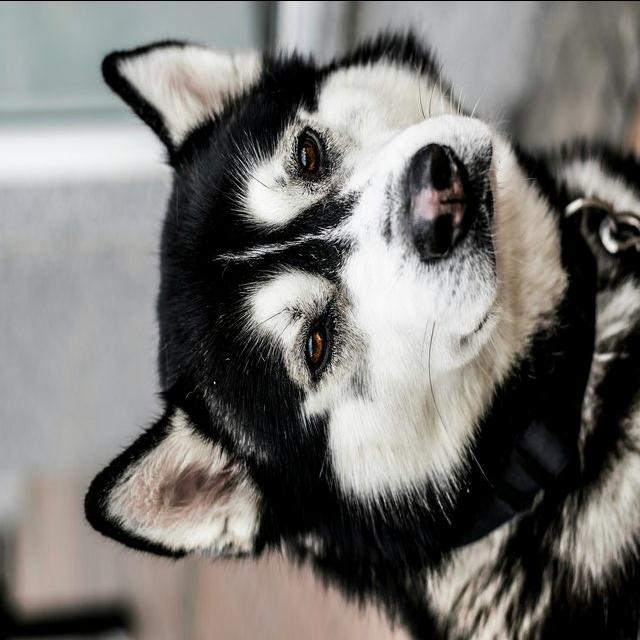husky: (82, 24, 638, 638)
